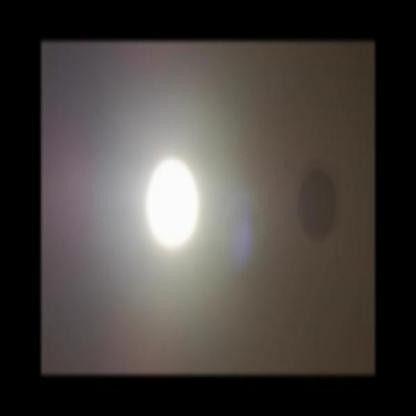light_off: (280, 133, 340, 257)
